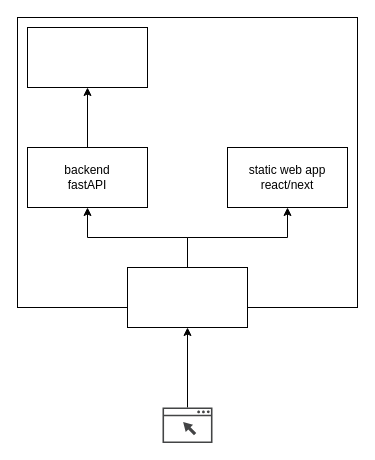
Some shapes in this 375 by 460 pixel diagram are drawn without their labels. Here are the shapes that lost their labels. From the top down, the centre of each, then its label:
At point 87,57: "DB mongoDB".
At point 187,297: "reverse proxy nginx".
